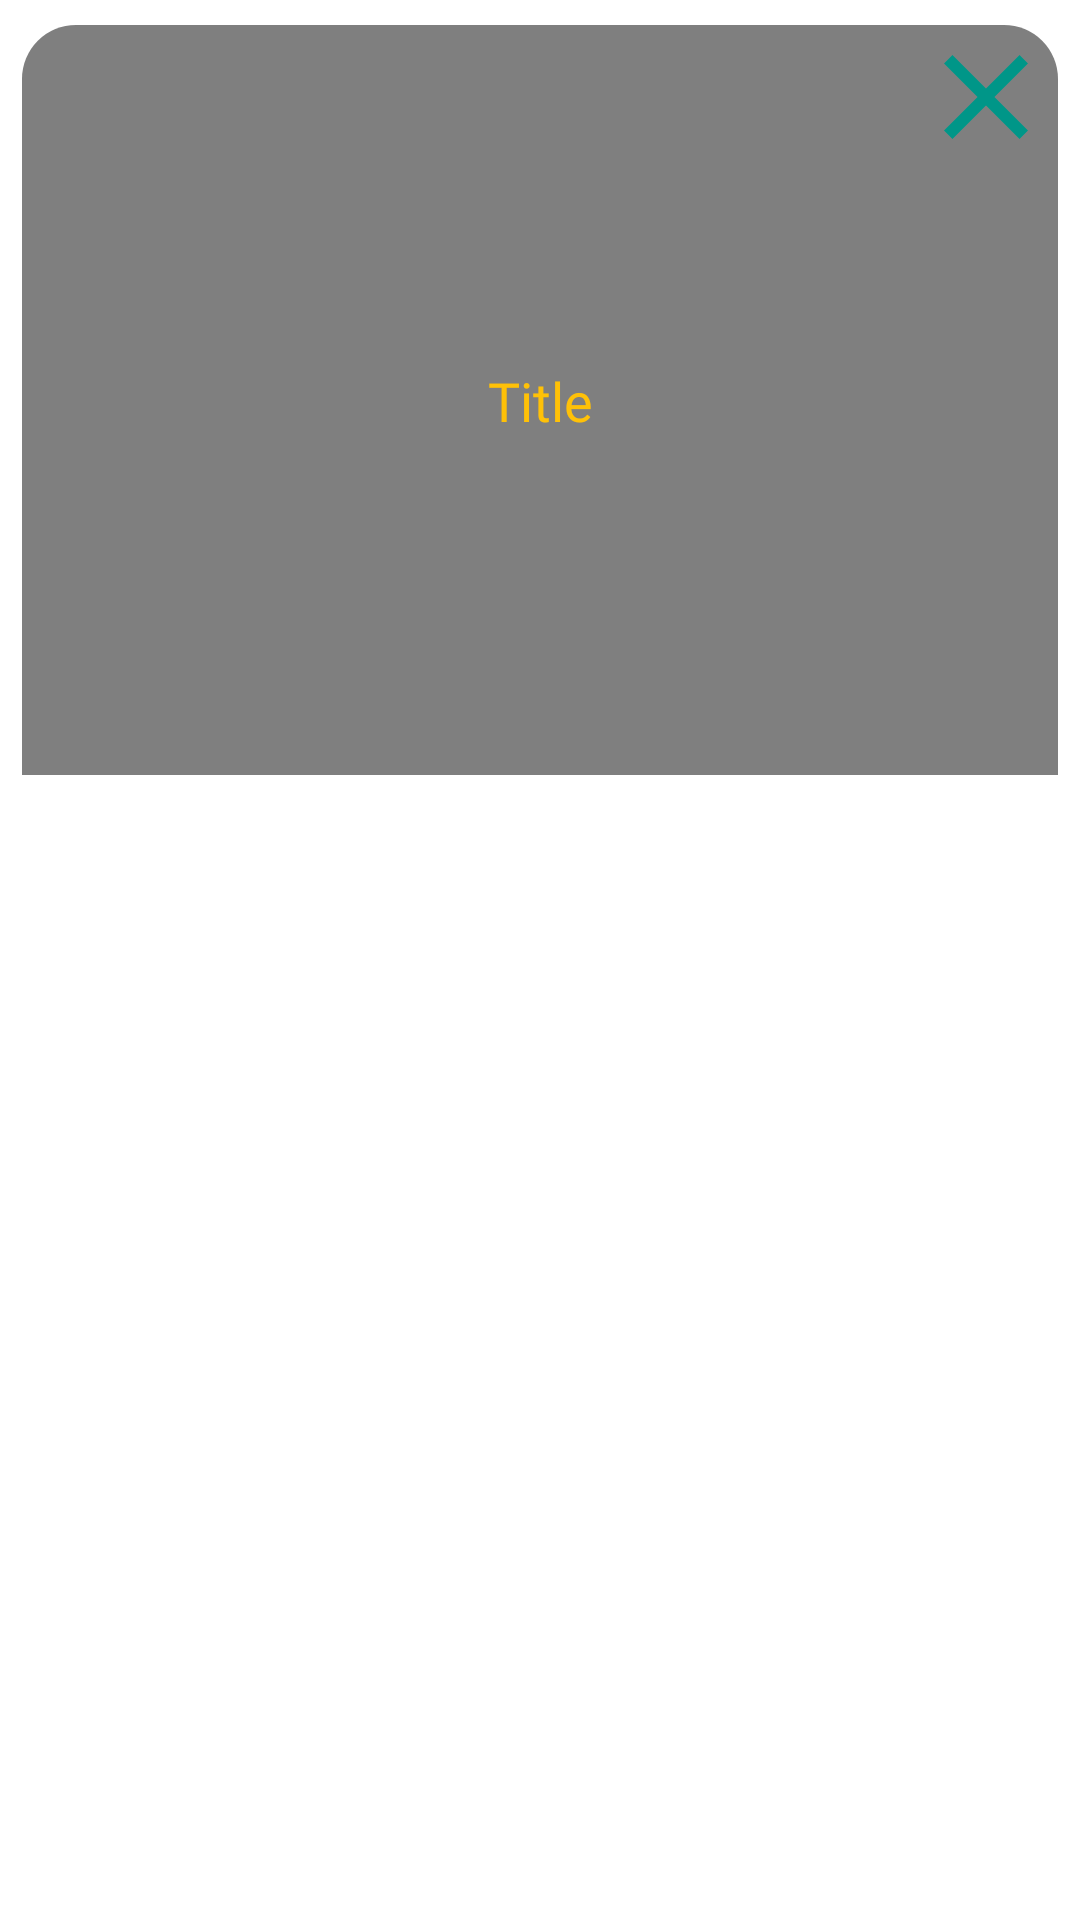

Screen size 1080px x 1920px. Icon name, then its center in pixels as point (x, y):
close: point (986, 97)
